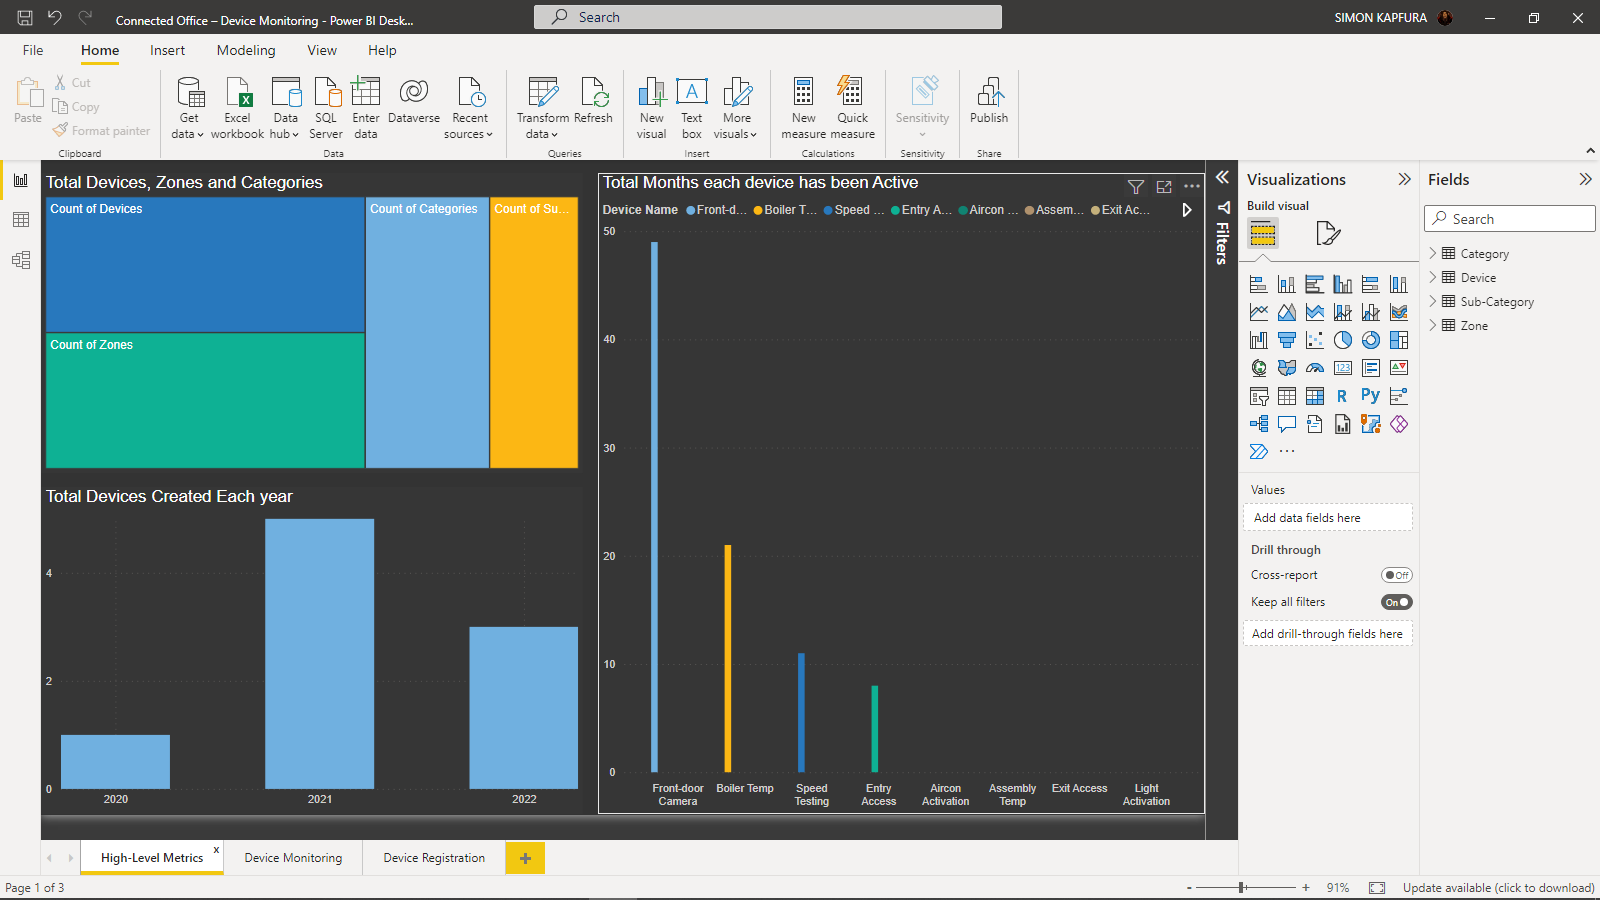

The page's visual inventory and layout, read from the dashboard file:
{"tool":"powerbi","page":{"name":"High-Level Metrics","canvas":[1280,720],"ordinal":0},"visuals":[{"type":"pieChart","title":"Total Devices, Zones and Categories","fields":{"Y":["CountNonNull(Category1.CategoryName)","CountNonNull(Sub-Category1.Sub Category Name)","CountNonNull(Device1.Device Name)","CountNonNull(Zone1.ZoneName)"]},"box":[0,14.1,596.3,330.3],"z":0},{"type":"donutChart","title":"Total Devices Created Each year","fields":{"Series":["Device.Year"],"Y":["Count(Device.Device Name)"]},"box":[0,359.8,596.3,359.8],"z":1000},{"type":"clusteredColumnChart","title":"Total Months each device has been Active","fields":{"Series":["Device.Device Name"],"Y":["Sum(Device.Months Active)"],"Category":["Device.Device Name"]},"box":[613,14.1,667,705.5],"z":2000}]}

Visuals, with their boxes on the page's 1280x720 design canvas (x1, y1, x2, y2). These are canvas units, not pixel positions in the 1600x900 screenshot, which may show the page scaled, cropped or inside an application window:
"Total Devices, Zones and Categories" pieChart: x1=0 y1=14 x2=596 y2=344
"Total Devices Created Each year" donutChart: x1=0 y1=360 x2=596 y2=720
"Total Months each device has been Active" clusteredColumnChart: x1=613 y1=14 x2=1280 y2=720
